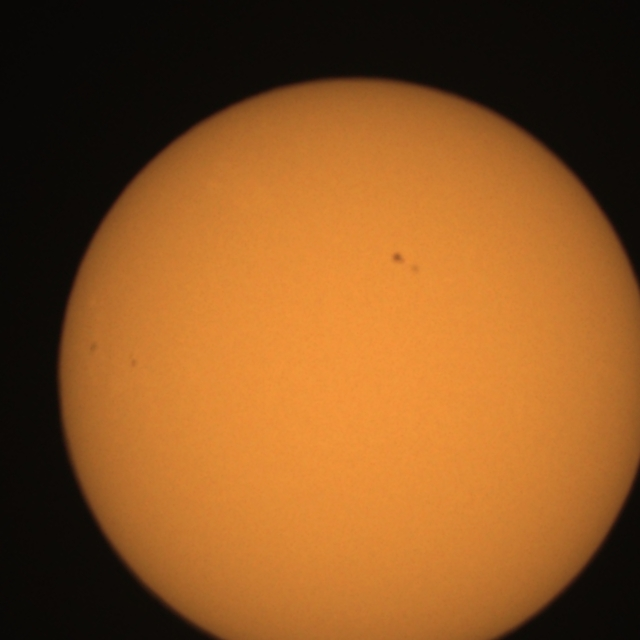sunspot: (390, 250, 421, 277), (390, 251, 407, 267), (87, 339, 100, 357), (128, 355, 139, 371)
